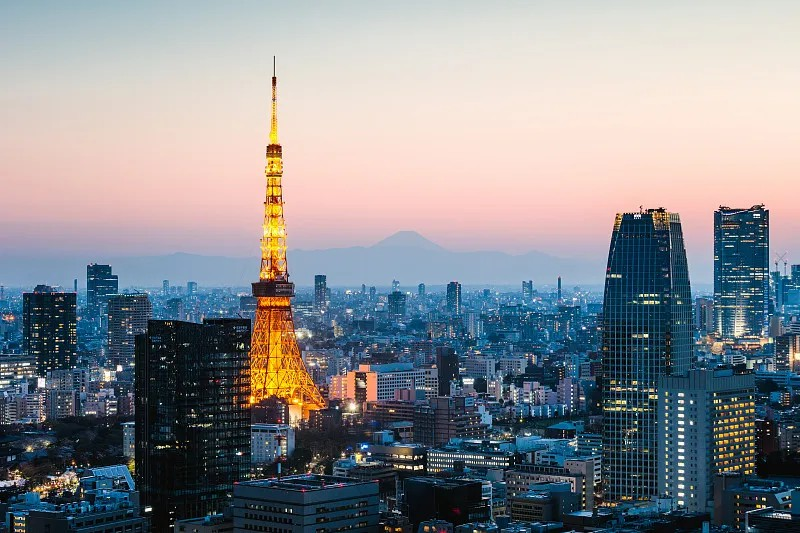Tokyo: (251, 53, 328, 420)
